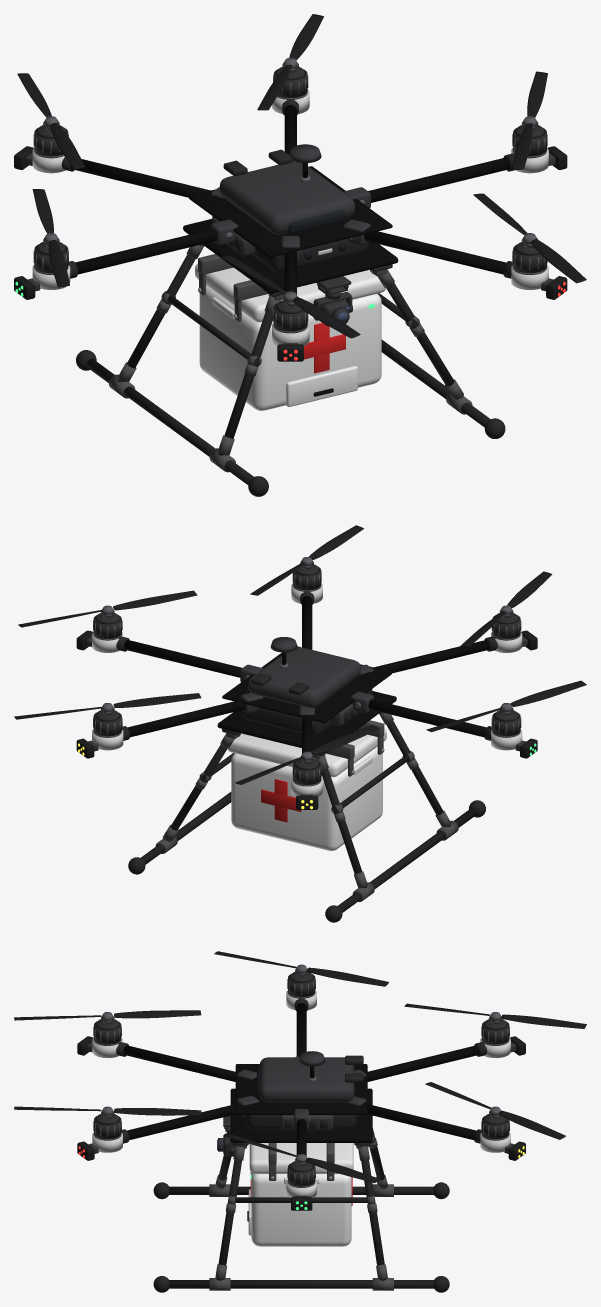
Rendered from raven-hexa-prepared_v1.glb.
The picture shows the model from 3 angles, top to bottom: view 1: azimuth 30°, elevation 25°; view 2: azimuth 150°, elevation 25°; view 3: azimuth 270°, elevation 25°; orthographic projection. The views are drawn at different scales.
Parts seen in each view (by area): view 1: Hexa_Arms_Motors, Hexa_Body, Hexa_MedicalBox, Hexa_LandingGear, Hexa_Mount_Gimbal, Hexa_LED_Pods, Rotor_Front_Right, Rotor_Front_Left, Rotor_Rear_Left, Rotor_Rear_Right, Rotor_Mid_Left, Rotor_Mid_Right; view 2: Hexa_Arms_Motors, Hexa_MedicalBox, Hexa_Body, Hexa_LandingGear, Hexa_LED_Pods, Rotor_Rear_Left, Rotor_Mid_Left, Rotor_Mid_Right, Rotor_Rear_Right, Rotor_Front_Left, Rotor_Front_Right, Hexa_Mount_Gimbal; view 3: Hexa_Arms_Motors, Hexa_Body, Hexa_LandingGear, Hexa_MedicalBox, Hexa_LED_Pods, Rotor_Front_Right, Hexa_Mount_Gimbal, Rotor_Rear_Right, Rotor_Front_Left, Rotor_Mid_Right, Rotor_Mid_Left, Rotor_Rear_Left.
Part boxes in pixels (<box>): Hexa_Arms_Motors: <box>32,66,548,345</box>; Hexa_Body: <box>183,144,398,293</box>; Hexa_MedicalBox: <box>195,263,385,410</box>; Hexa_LandingGear: <box>76,244,505,496</box>; Hexa_Mount_Gimbal: <box>198,254,352,326</box>; Hexa_LED_Pods: <box>14,146,567,361</box>; Rotor_Front_Right: <box>221,255,360,338</box>; Rotor_Front_Left: <box>473,193,586,283</box>; Rotor_Rear_Left: <box>257,14,323,110</box>; Rotor_Rear_Right: <box>17,73,85,169</box>; Rotor_Mid_Left: <box>512,71,547,169</box>; Rotor_Mid_Right: <box>32,189,69,287</box>; Hexa_Arms_Motors: <box>92,564,522,796</box>; Hexa_MedicalBox: <box>228,728,386,850</box>; Hexa_Body: <box>217,637,396,753</box>; Hexa_LandingGear: <box>128,712,485,922</box>; Hexa_LED_Pods: <box>76,630,537,809</box>; Rotor_Rear_Left: <box>14,693,201,719</box>; Rotor_Mid_Left: <box>18,590,197,627</box>; Rotor_Mid_Right: <box>426,680,586,731</box>; Rotor_Rear_Right: <box>235,725,379,784</box>; Rotor_Front_Left: <box>250,525,363,595</box>; Rotor_Front_Right: <box>460,571,552,646</box>; Hexa_Mount_Gimbal: <box>326,720,384,776</box>; Hexa_Arms_Motors: <box>92,972,510,1197</box>; Hexa_Body: <box>230,1051,372,1142</box>; Hexa_LandingGear: <box>153,1128,449,1292</box>; Hexa_MedicalBox: <box>247,1143,353,1246</box>; Hexa_LED_Pods: <box>77,1036,525,1210</box>; Rotor_Front_Right: <box>14,1010,201,1020</box>; Hexa_Mount_Gimbal: <box>217,1115,334,1180</box>; Rotor_Rear_Right: <box>404,1003,586,1028</box>; Rotor_Front_Left: <box>14,1106,201,1115</box>; Rotor_Mid_Right: <box>214,951,388,986</box>; Rotor_Mid_Left: <box>223,1133,379,1183</box>; Rotor_Rear_Left: <box>425,1082,565,1139</box>.
Size of the model in its own units: 2.08 by 0.827 by 2.17.
Materials: 25 (1 with a texture image).
